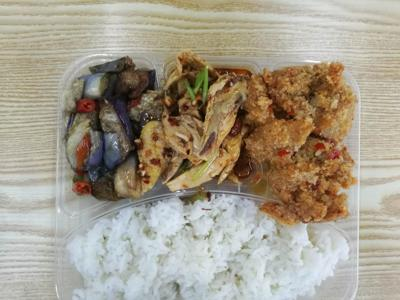j1: (161, 56, 251, 195)
j2: (252, 61, 364, 226)
rice: (65, 195, 360, 299)
sqz: (66, 58, 160, 201)
